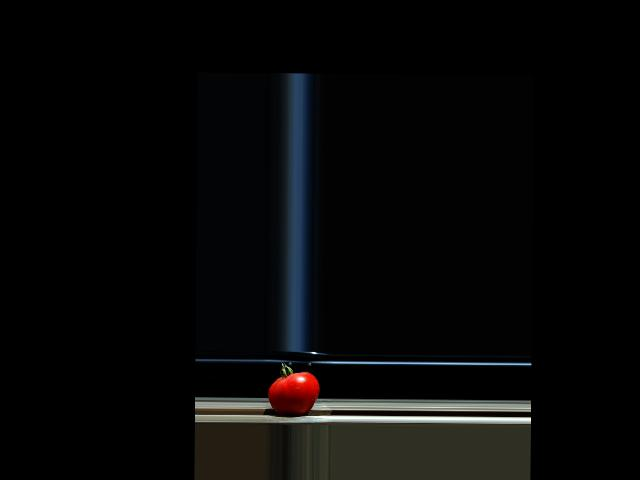tomato: (267, 362, 319, 415)
